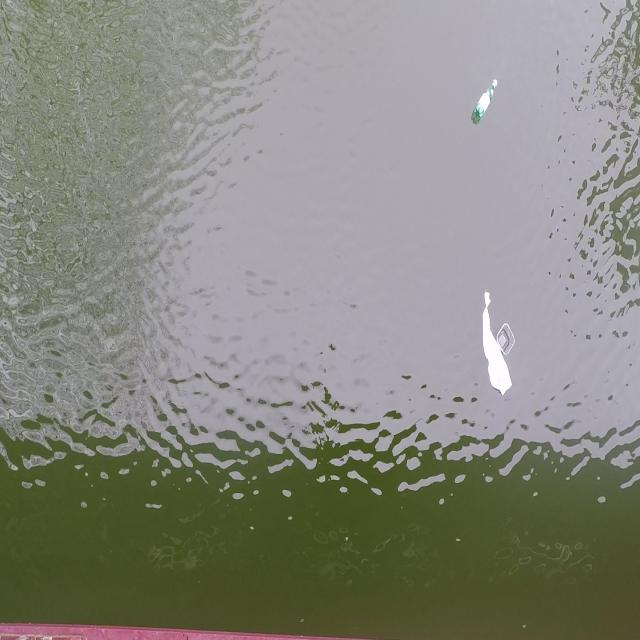Autre plastique: (496, 320, 518, 360)
Bouteille plastique: (471, 72, 502, 128)
Sac plastique: (476, 280, 516, 402)
